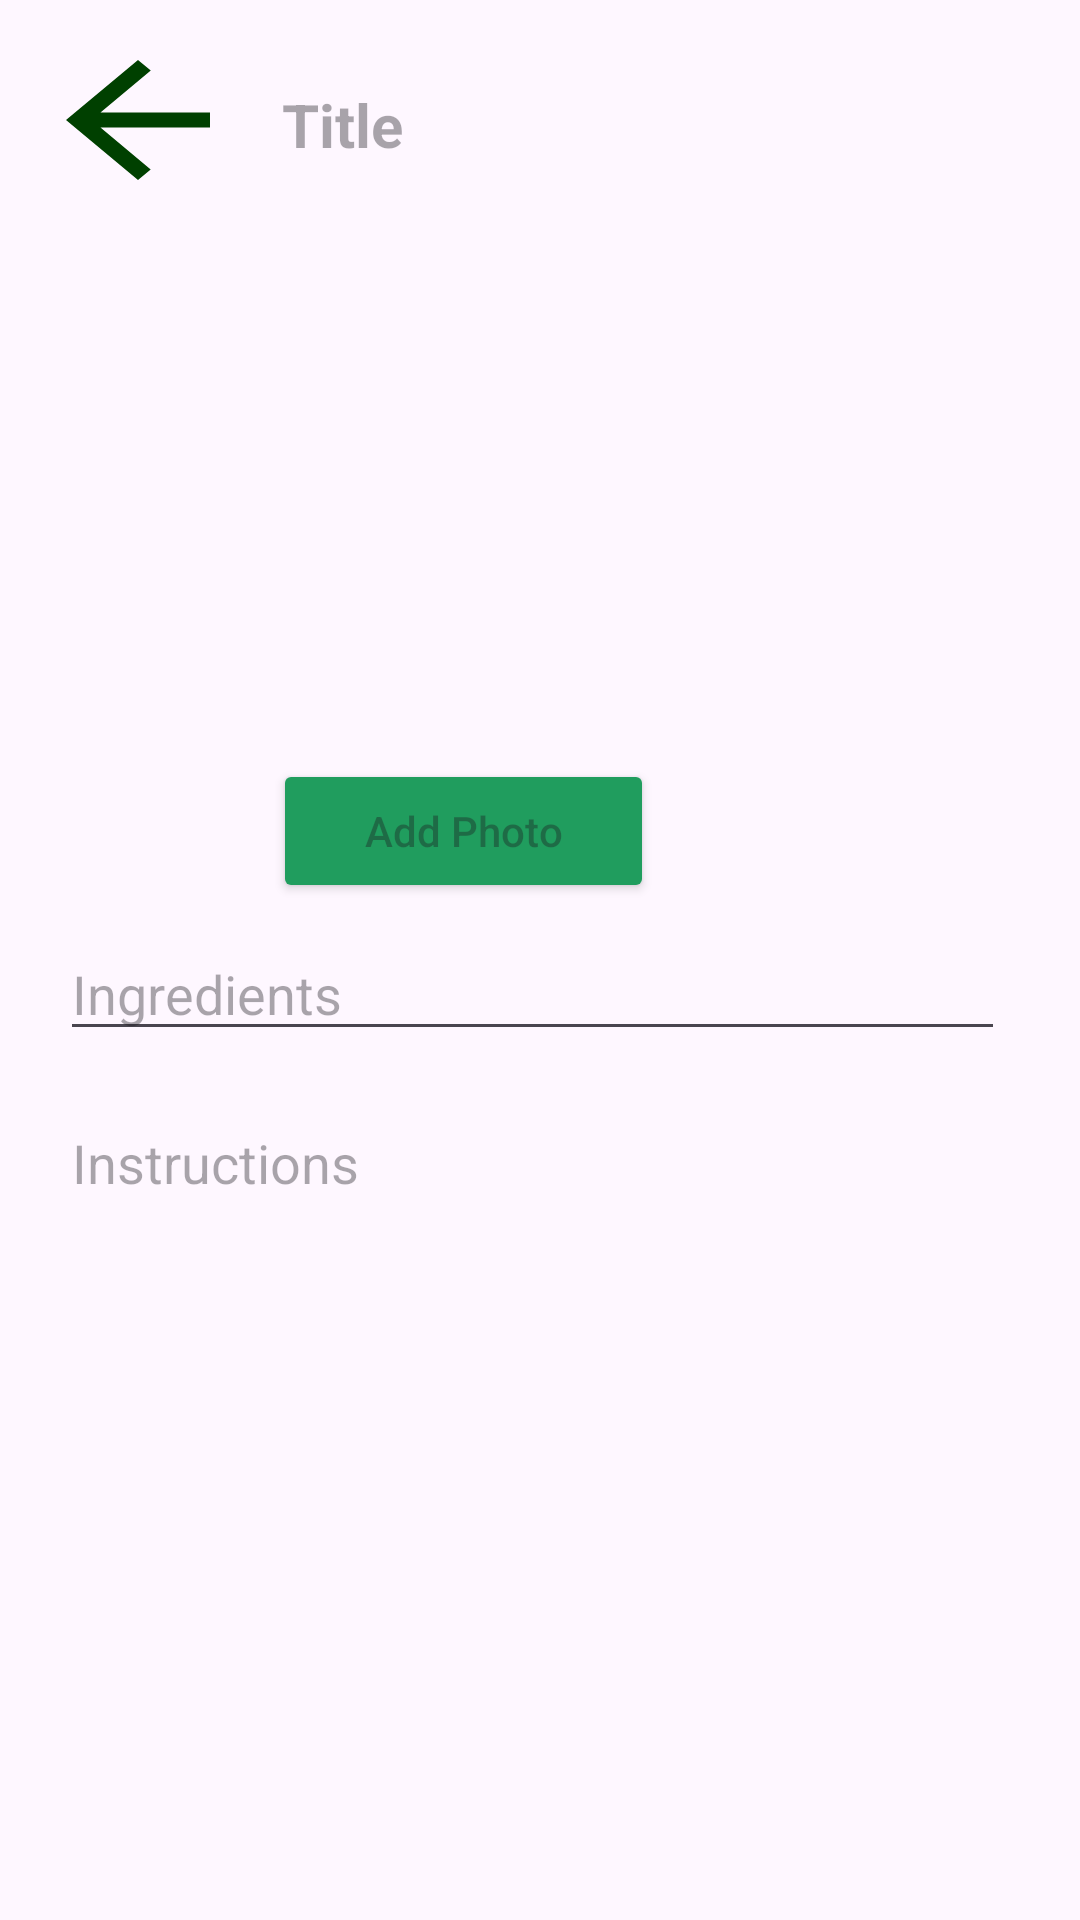

Icons on this 1080px×1920px Android screen, each with its box as (x1, y1, x2, y2):
arrow back: (66, 60, 210, 180)
